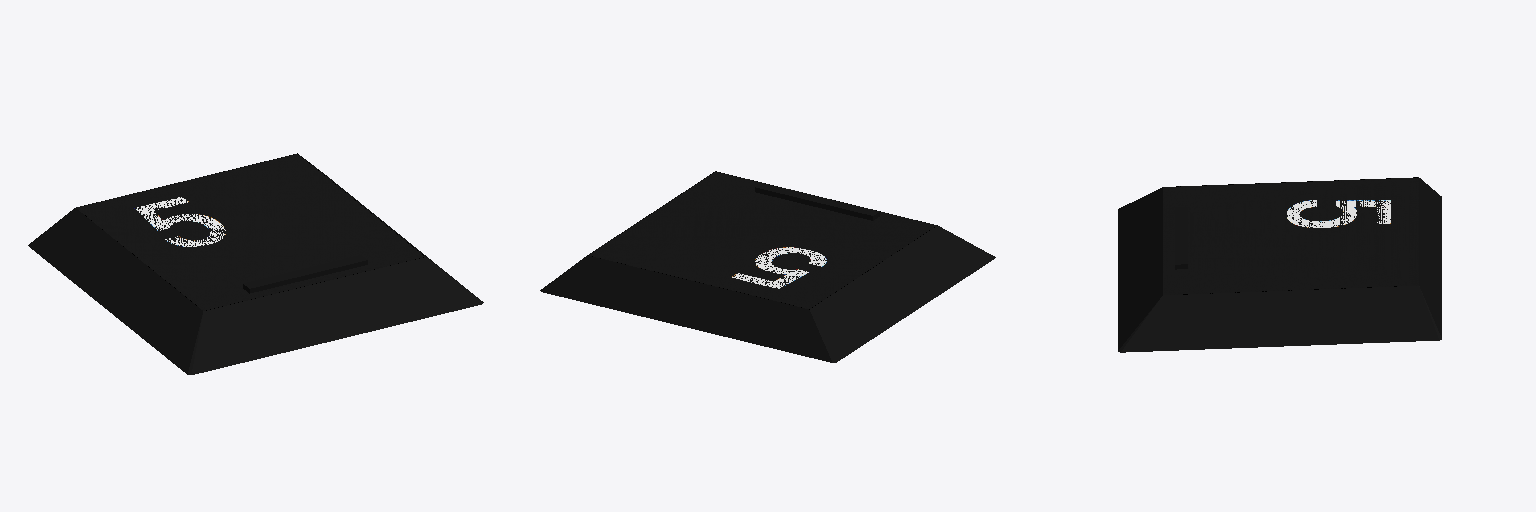
3 views of the same model, side by side, from view 1: azimuth 30°, elevation 25°; view 2: azimuth 150°, elevation 25°; view 3: azimuth 270°, elevation 25° (orthographic).
Visible parts, largest first — view 1: Group113/mesh104/mesh104-geometry#mesh104-geometry; view 2: Group113/mesh104/mesh104-geometry#mesh104-geometry; view 3: Group113/mesh104/mesh104-geometry#mesh104-geometry.
Boxes of the visible parts, <box> form: Group113/mesh104/mesh104-geometry#mesh104-geometry: <box>28,153,483,374</box>; Group113/mesh104/mesh104-geometry#mesh104-geometry: <box>540,171,995,362</box>; Group113/mesh104/mesh104-geometry#mesh104-geometry: <box>1118,177,1441,352</box>.
Bounding box in the file's own units: 0.0754 × 0.0119 × 0.0715.
2 materials, 1 textured.